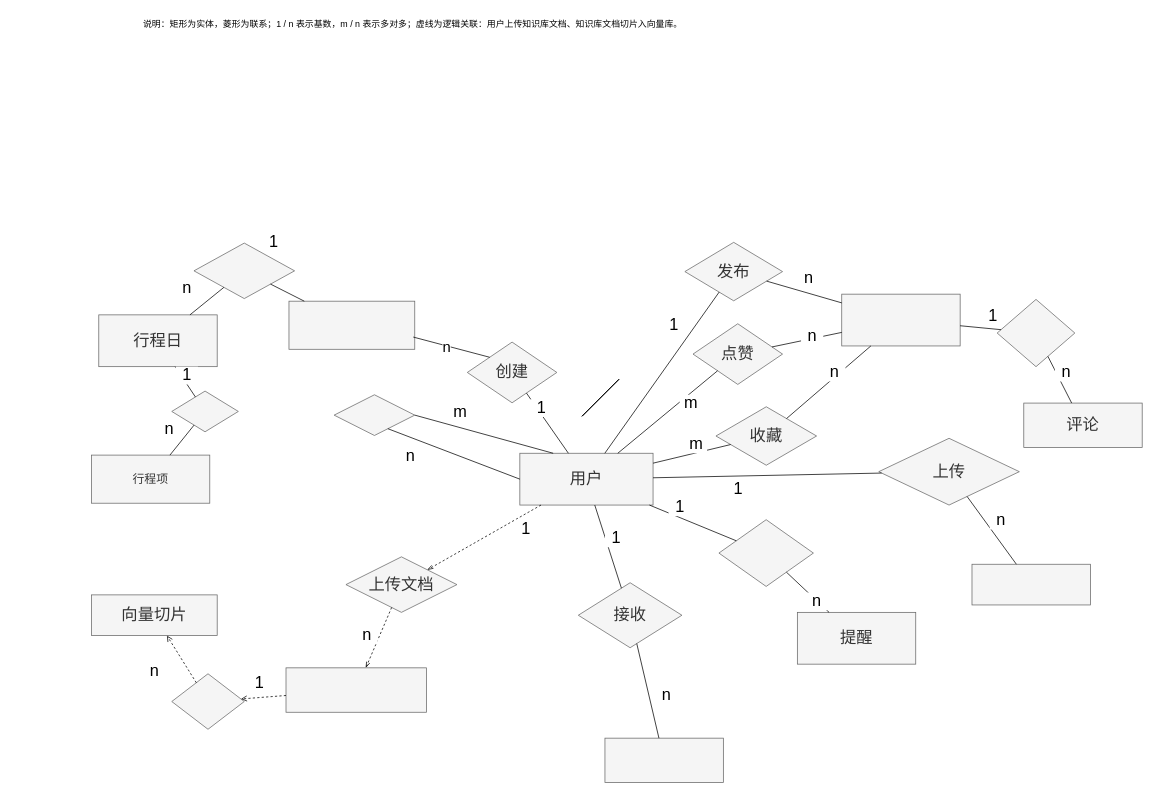
Image size: 1155x796. Some labels were removed from this diagram. Each missing label, with the centre of its shape:
"关注" belongs at (x=374, y=414).
"切片" belongs at (x=207, y=701).
"动态" belongs at (x=900, y=319).
"包含" belongs at (x=244, y=270).
"媒体" belongs at (x=1030, y=584).
"安排" belongs at (x=204, y=411).
"拥有" belongs at (x=1035, y=333).
"知识库文档" belongs at (x=356, y=689).
"站内通知" belongs at (x=663, y=760).
"行程" belongs at (x=351, y=324).
"设置" belongs at (x=765, y=552).
